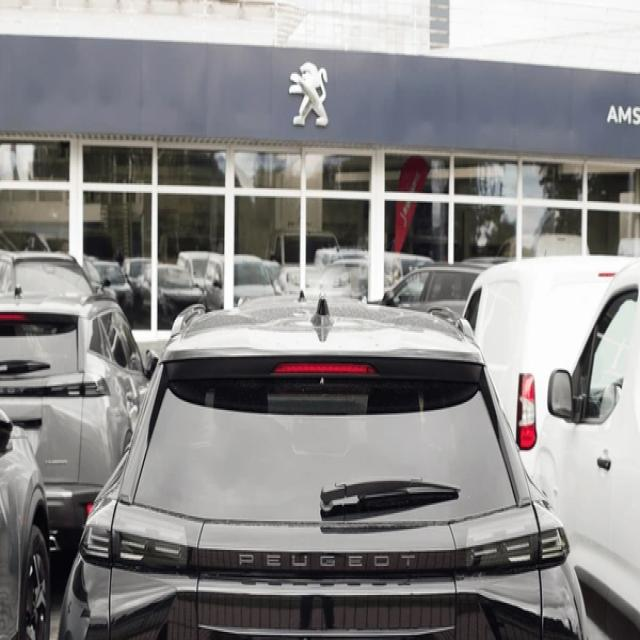pegout: (226, 538, 424, 579), (288, 55, 332, 139)
